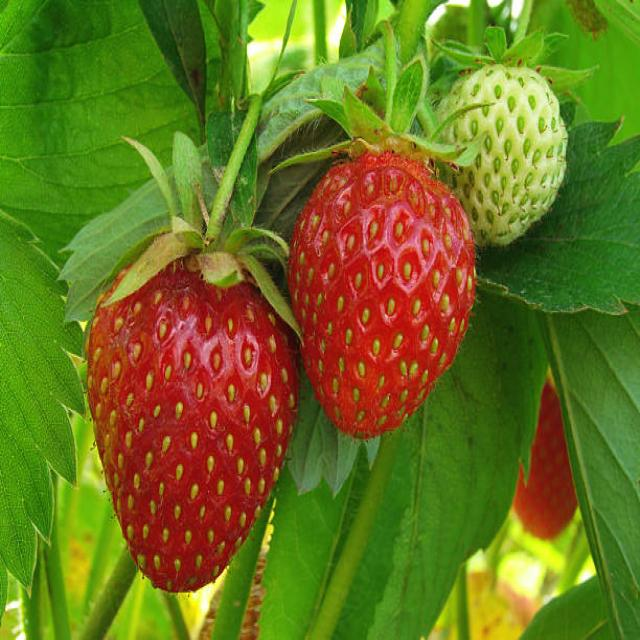Healthy Fruit: (85, 260, 299, 594), (285, 156, 475, 439), (431, 65, 569, 246)
